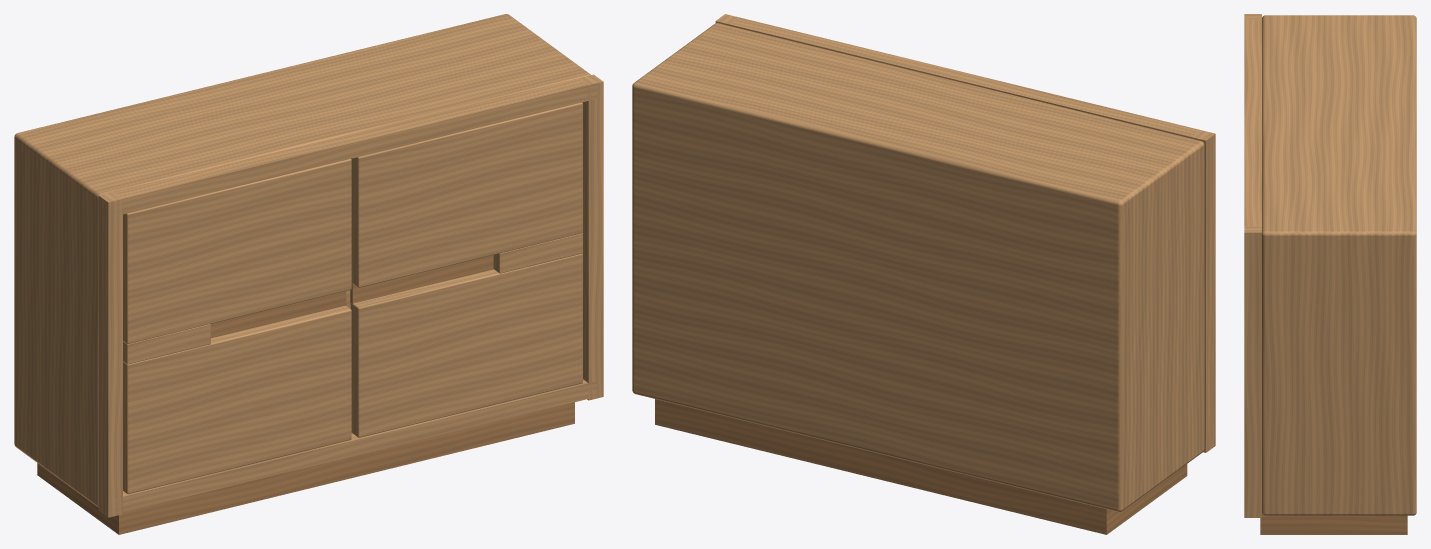
The model's file is reference.glb.
3 renders of one model, left to right at view 1: azimuth 30°, elevation 25°; view 2: azimuth 150°, elevation 25°; view 3: azimuth 270°, elevation 25°, orthographic. The views are drawn at different scales.
Visible parts, largest first — view 1: Door field (×4), Carcass, Outer rail (×2), Outer stile (×2), Recessed plinth, Recess floor (×2), Outer door rail (×2); view 2: Carcass, Recessed plinth, Outer rail, Outer stile; view 3: Carcass, Outer stile, Outer rail, Recessed plinth.
Part boxes in pixels (<box>): Door field (×4): <box>123,102,582,494</box>; Carcass: <box>14,14,590,507</box>; Outer rail (×2): <box>109,78,597,514</box>; Outer stile (×2): <box>98,74,603,517</box>; Recessed plinth: <box>37,402,574,534</box>; Recess floor (×2): <box>211,255,493,338</box>; Outer door rail (×2): <box>123,233,582,364</box>; Carcass: <box>632,23,1204,511</box>; Recessed plinth: <box>655,399,1187,534</box>; Outer rail: <box>723,17,1200,138</box>; Outer stile: <box>1191,130,1215,452</box>; Carcass: <box>1262,15,1416,515</box>; Outer stile: <box>1244,226,1261,517</box>; Outer rail: <box>1244,16,1261,225</box>; Recessed plinth: <box>1260,514,1407,534</box>.
Bounding box in the file's own units: 1.2 × 0.796 × 0.4005.
Materials: 2 (2 with a texture image).
